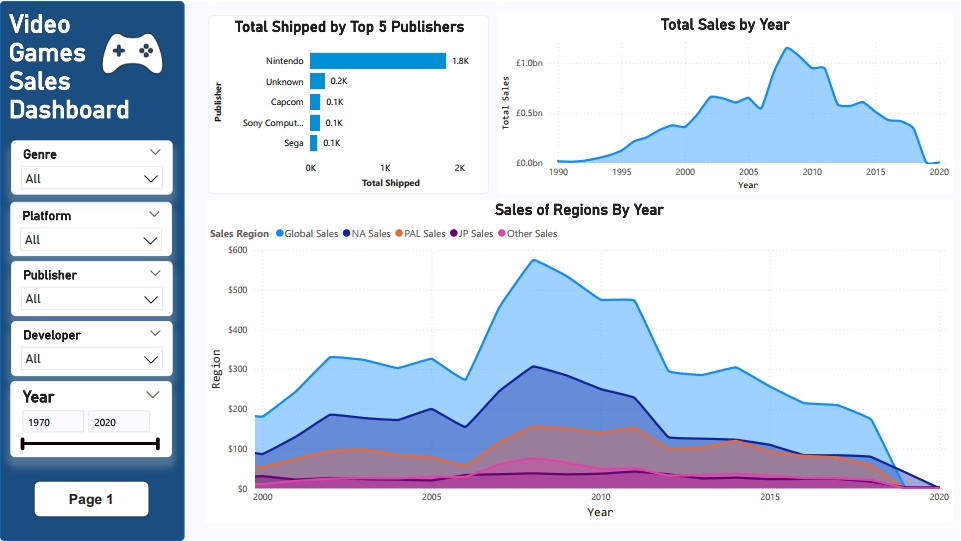

Layout of this report page (visuals, bound fields, positions):
{"tool":"powerbi","page":{"name":"Page 2","canvas":[1280,720],"ordinal":1},"visuals":[{"type":"lineChart","title":"Sales By Year","fields":{"Y":["Sum(vgsales-12-4-2019.Global_Sales)","Sum(vgsales-12-4-2019.NA_Sales)","Sum(vgsales-12-4-2019.PAL_Sales)","Sum(vgsales-12-4-2019.JP_Sales)","Sum(vgsales-12-4-2019.Other_Sales)"],"Category":["vgsales-12-4-2019.Year"]},"box":[17.9,335.5,1236,373.1],"z":0},{"type":"textbox","box":[0,0,1280,79.3],"z":1},{"type":"barChart","title":"Total Shipped by Top 5 Publishers","fields":{"Y":["Sum(vgsales-12-4-2019.Total_Shipped)"],"Category":["vgsales-12-4-2019.Publisher"]},"box":[18.3,86.4,415.8,238.9],"z":4},{"type":"areaChart","fields":{"Y":["vgsales-12-4-2019.Total Sales"],"Category":["vgsales-12-4-2019.Year"]},"box":[448.4,86.4,806.2,238.9],"z":5},{"type":"pageNavigator","box":[869.2,6.3,400.1,63.7],"z":6}]}

Visuals, with their boxes in screenshot pixels (x1, y1, x2, y2), scaled from the page's 1280x720 canvas onto the 961x541 screenshot:
"Sales By Year" lineChart: [13,252,941,532]
textbox: [0,0,960,60]
"Total Shipped by Top 5 Publishers" barChart: [14,65,326,244]
areaChart - vgsales-12-4-2019.Total Sales x vgsales-12-4-2019.Year: [337,65,942,244]
pageNavigator: [653,5,953,53]
